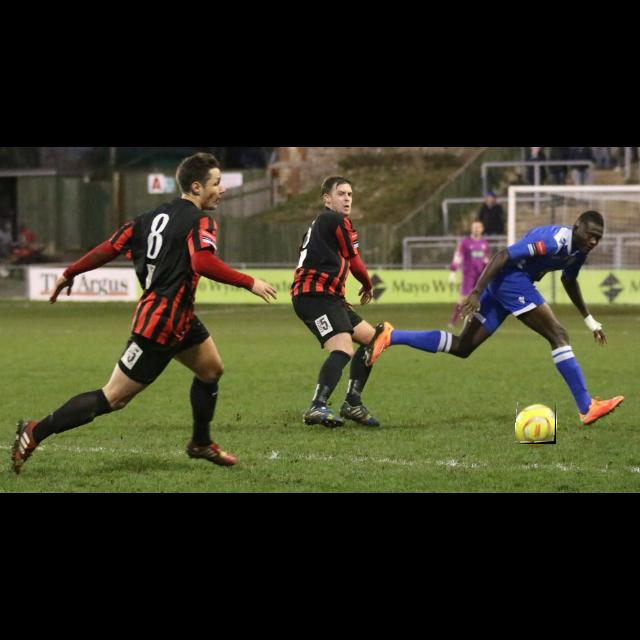Football: (516, 402, 556, 444)
